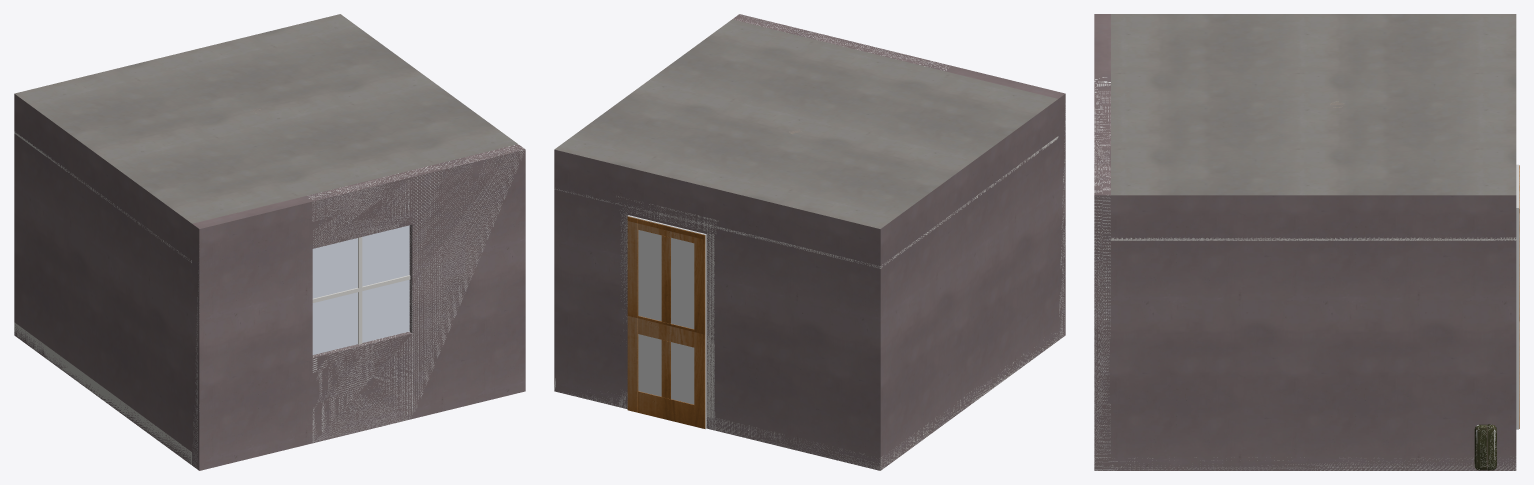
File: ivy.glb
The picture shows the model from 3 angles, left to right: view 1: azimuth 30°, elevation 25°; view 2: azimuth 150°, elevation 25°; view 3: azimuth 270°, elevation 25°; orthographic projection. The views are drawn at different scales.
Visible parts, largest first — view 1: ivy_static, window_glass, COL_static; view 2: ivy_static, DYN_door_hall, I_door_hall, COL_static; view 3: ivy_static, COL_static, I_door_hall.
Part boxes in pixels (<box>): ivy_static: <box>14,14,525,470</box>; window_glass: <box>312,225,409,354</box>; COL_static: <box>15,144,524,468</box>; ivy_static: <box>554,14,1065,470</box>; DYN_door_hall: <box>627,216,705,428</box>; I_door_hall: <box>628,215,706,429</box>; COL_static: <box>555,14,1065,460</box>; ivy_static: <box>1094,14,1516,470</box>; COL_static: <box>1094,77,1516,470</box>; I_door_hall: <box>1516,164,1518,429</box>.
Bounding box in the file's own units: 3.64 × 2.58 × 3.57.
Materials: 26 (14 with a texture image).
